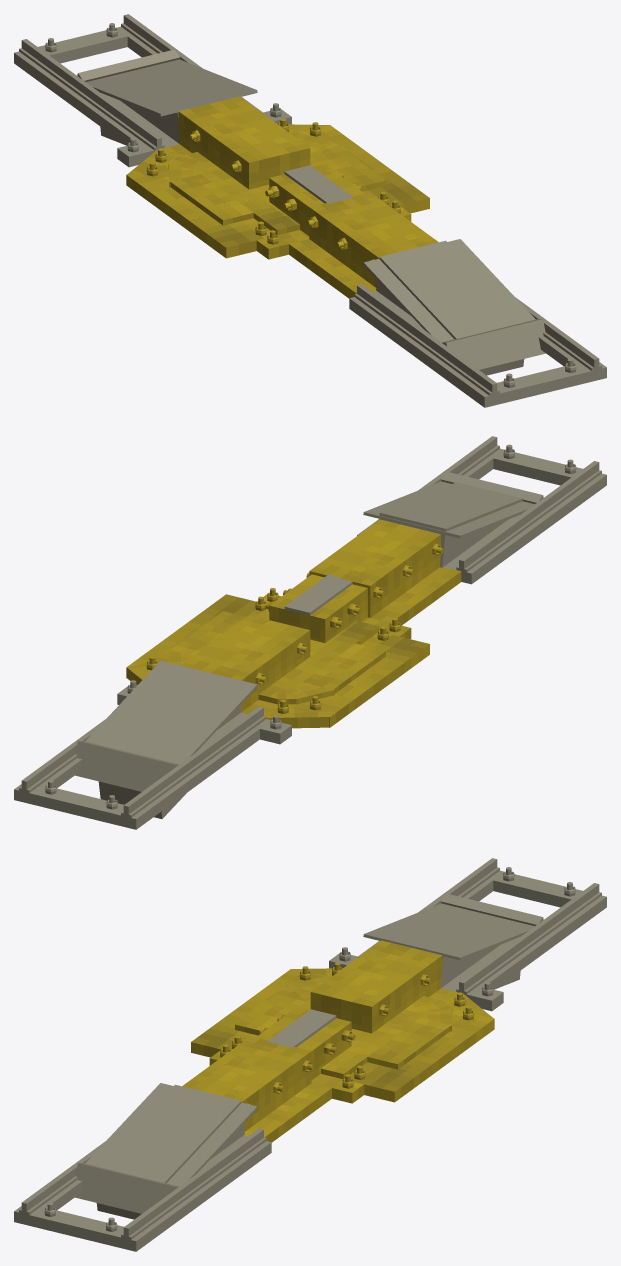
The model's file is aws.obj.
3 renders of one model, top to bottom at view 1: azimuth 30°, elevation 25°; view 2: azimuth 150°, elevation 25°; view 3: azimuth 330°, elevation 25°, orthographic.
Visible parts, largest first — view 1: cube, torus, cylinder; view 2: cube, torus, cylinder; view 3: cube, torus, cylinder.
Part boxes in pixels (x1=…): cube: x1=14, y1=14, x2=606, y2=407; torus: x1=45, y1=27, x2=576, y2=387; cylinder: x1=48, y1=23, x2=573, y2=381; cube: x1=14, y1=436, x2=606, y2=829; torus: x1=45, y1=449, x2=576, y2=809; cylinder: x1=48, y1=444, x2=573, y2=803; cube: x1=14, y1=858, x2=606, y2=1251; torus: x1=44, y1=871, x2=575, y2=1231; cylinder: x1=47, y1=867, x2=572, y2=1225.
Bounding box in the file's own units: 1.25 × 0.4994 × 5.
Materials: 2 (2 with a texture image).
